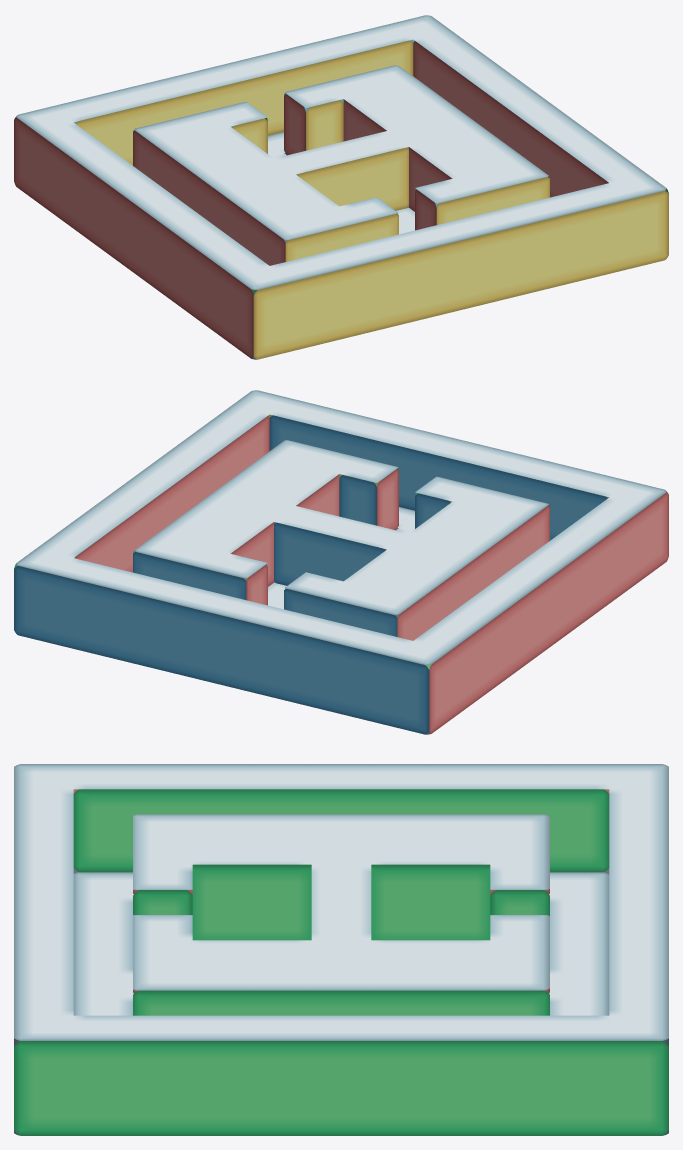
Rendered from maze.fbx.
3 renders of one model, top to bottom at view 1: azimuth 30°, elevation 25°; view 2: azimuth 150°, elevation 25°; view 3: azimuth 270°, elevation 25°, orthographic. The views are drawn at different scales.
Visible parts, largest first — view 1: cuboid; view 2: cuboid; view 3: cuboid.
Boxes of the visible parts, box(x1,y1,x2,y2) form: cuboid: box(14, 15, 668, 359); cuboid: box(14, 390, 668, 734); cuboid: box(14, 764, 668, 1135).
Size of the model in its own units: 312 by 50 by 312.
Materials: 1 (1 with a texture image).
